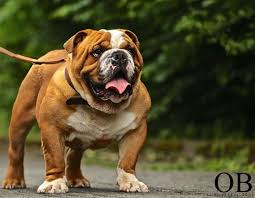dog: (3, 26, 153, 196)
